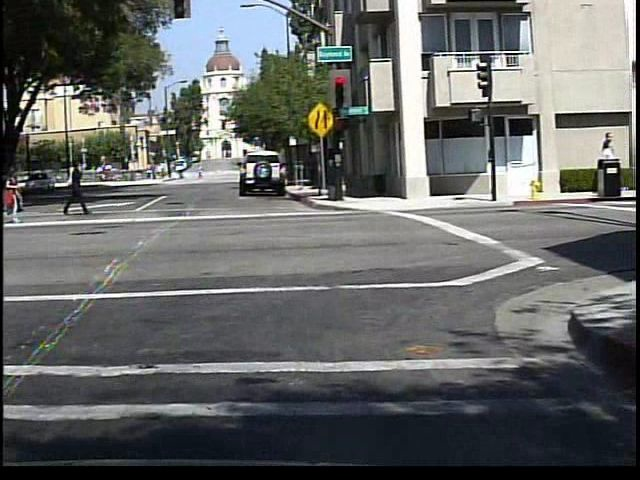person: (60, 154, 90, 218), (2, 167, 30, 230), (191, 162, 203, 182), (172, 166, 183, 182)
